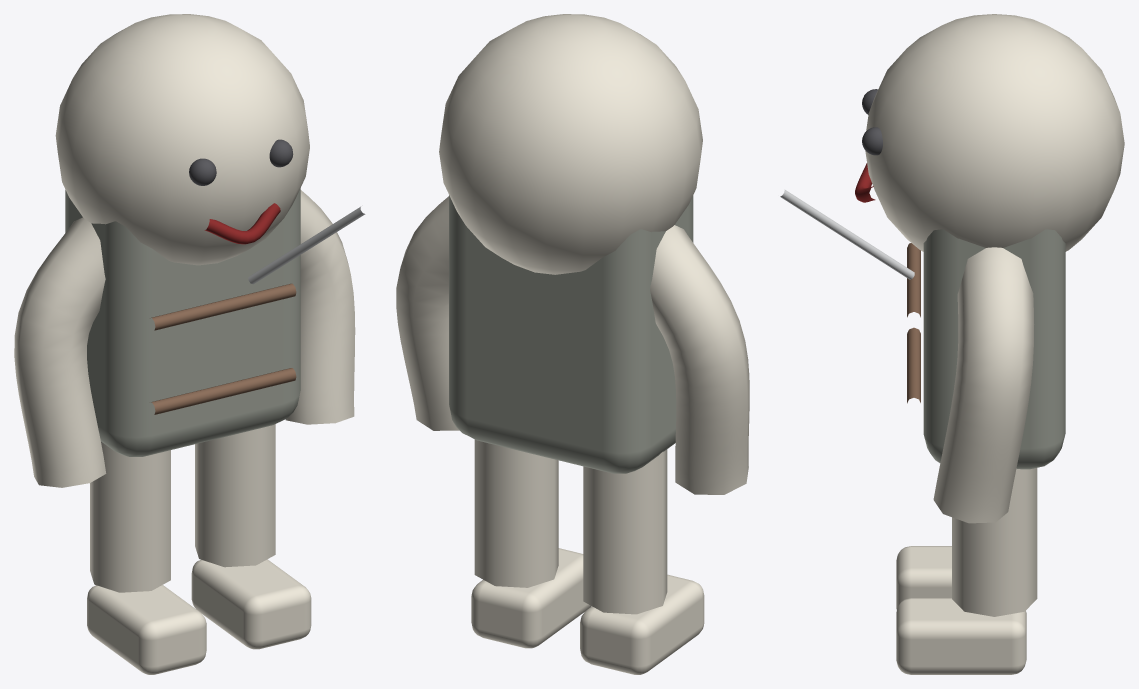
File: paranormal-investigation-house-rag-doll-2d0517a8__26826.glb
The picture shows the model from 3 angles, left to right: view 1: azimuth 30°, elevation 25°; view 2: azimuth 150°, elevation 25°; view 3: azimuth 270°, elevation 25°; orthographic projection. The views are drawn at different scales.
Visible parts, largest first — view 1: rag-doll; view 2: rag-doll; view 3: rag-doll.
Part boxes in pixels (x1,y1,x2,y2): rag-doll: [14, 14, 365, 674]; rag-doll: [396, 14, 749, 674]; rag-doll: [780, 14, 1124, 674].
Size of the model in its own units: 0.1648 by 0.285 by 0.1463.
